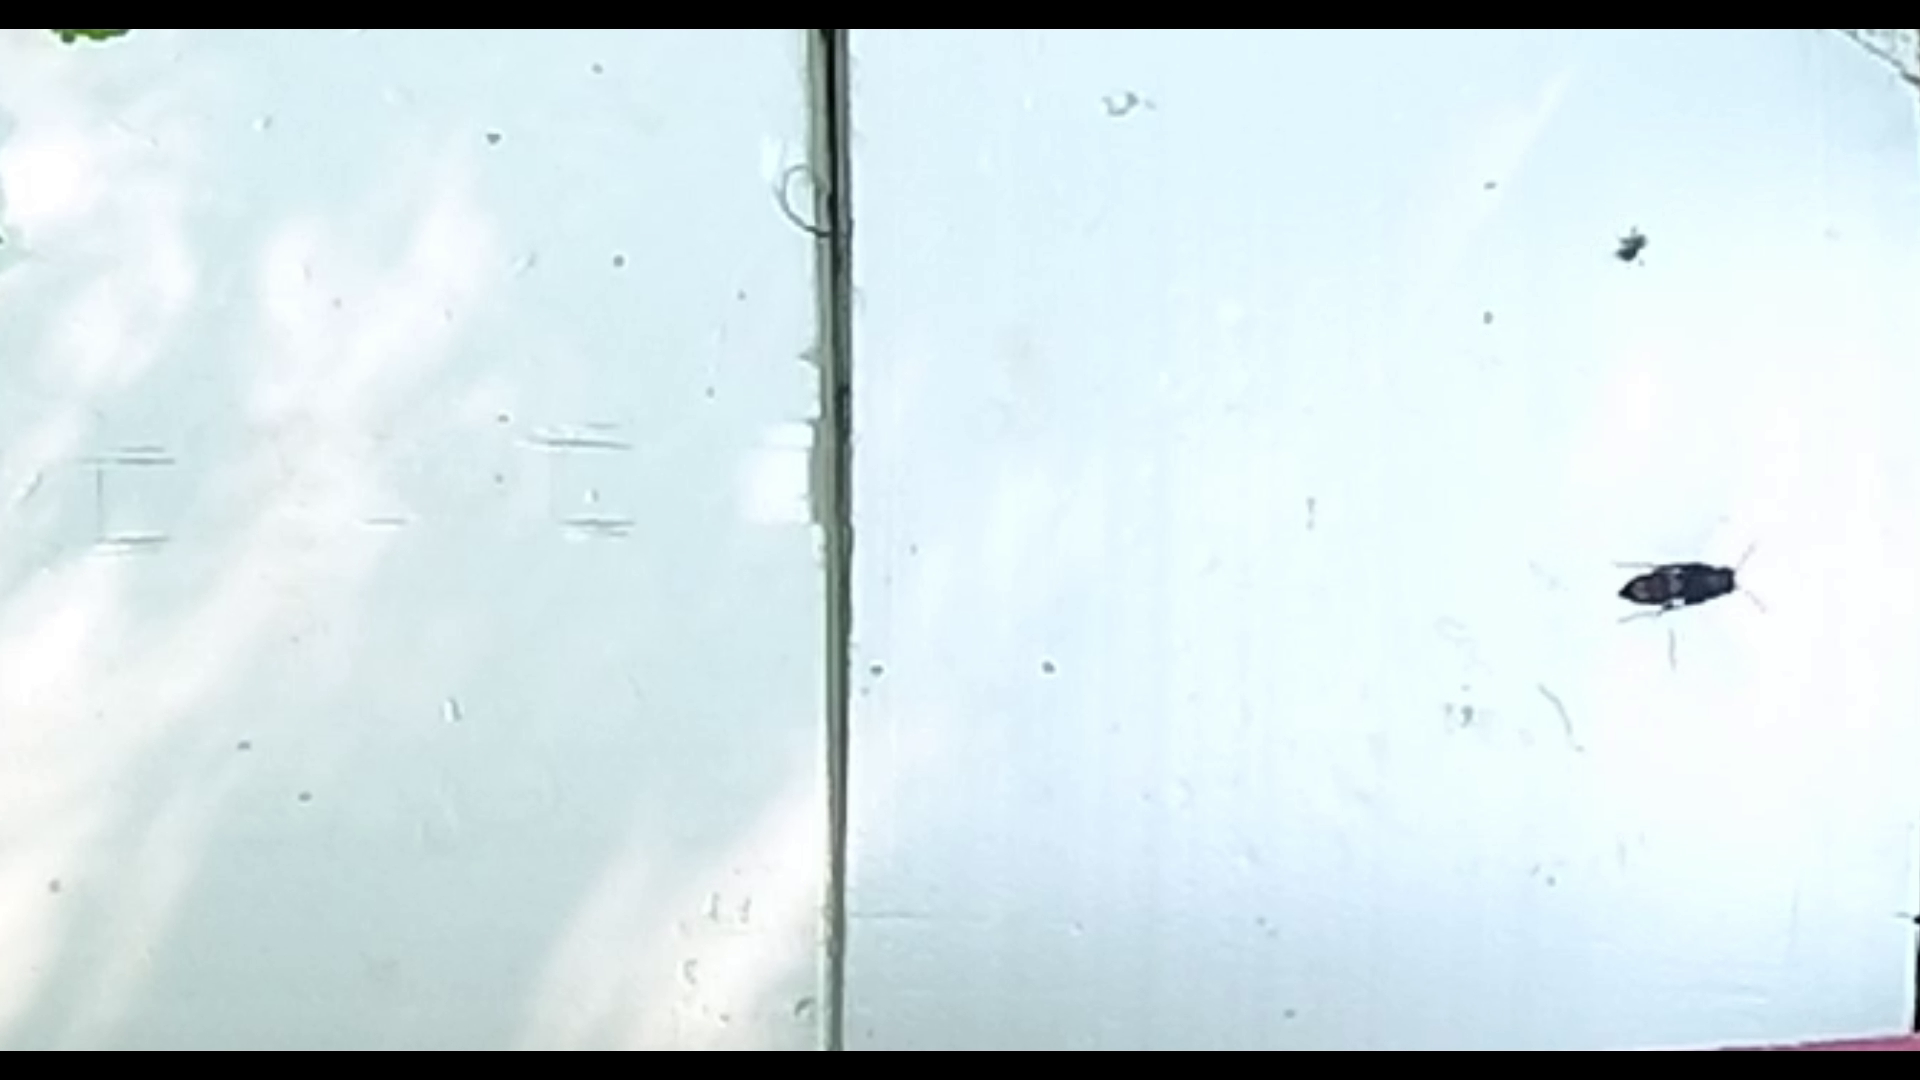Asian_hornets: (1600, 547, 1772, 650)
